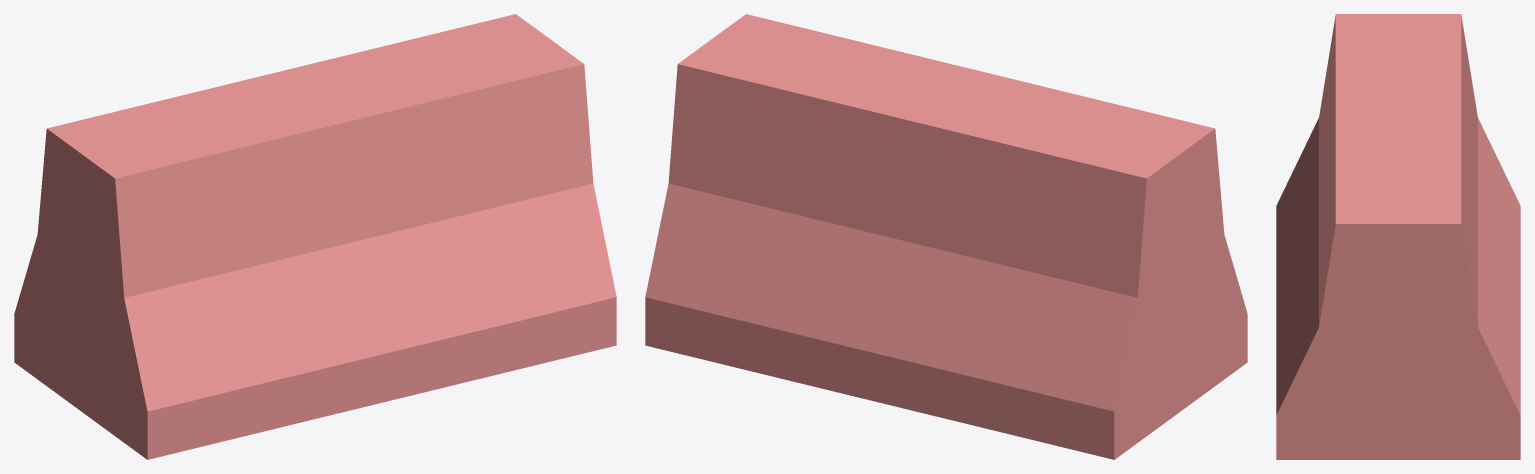
File: barrierRed.glb
3 renders of one model, left to right at view 1: azimuth 30°, elevation 25°; view 2: azimuth 150°, elevation 25°; view 3: azimuth 270°, elevation 25°, orthographic. The views are drawn at different scales.
Parts seen in each view (by area): view 1: barrierRed(Clone); view 2: barrierRed(Clone); view 3: barrierRed(Clone).
Part boxes in pixels (x1=…): barrierRed(Clone): x1=14, y1=14, x2=616, y2=459; barrierRed(Clone): x1=645, y1=14, x2=1247, y2=459; barrierRed(Clone): x1=1276, y1=14, x2=1520, y2=459.
Size of the model in its own units: 0.25 by 0.1312 by 0.123.
Materials: 1 (1 with a texture image).
